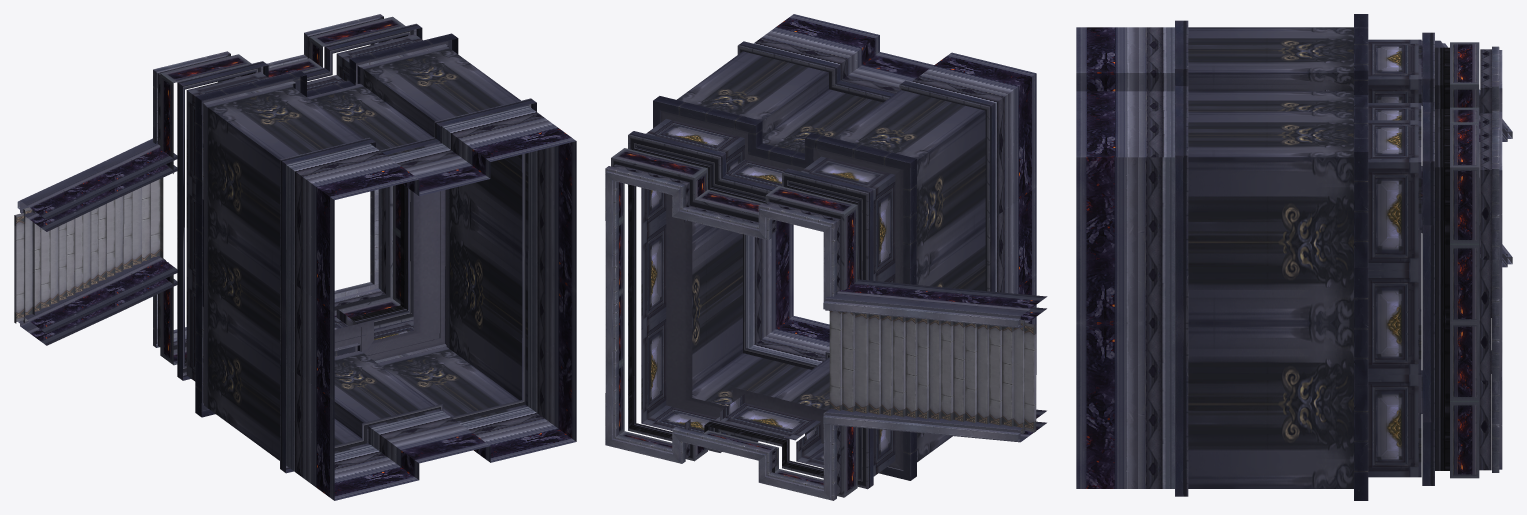
File: Item_mgz_1005_pt_08.FBX
3 views of the same model, side by side, from view 1: azimuth 30°, elevation 25°; view 2: azimuth 150°, elevation 25°; view 3: azimuth 270°, elevation 25° (orthographic). The views are drawn at different scales.
Parts seen in each view (by area): view 1: Item_mgz_1005_pt_08; view 2: Item_mgz_1005_pt_08; view 3: Item_mgz_1005_pt_08.
Part boxes in pixels (<box>): Item_mgz_1005_pt_08: <box>14,14,576,500</box>; Item_mgz_1005_pt_08: <box>605,14,1047,500</box>; Item_mgz_1005_pt_08: <box>1076,14,1512,500</box>.
Size of the model in its own units: 3802 by 2815 by 3189.
Materials: 1 (1 with a texture image).
